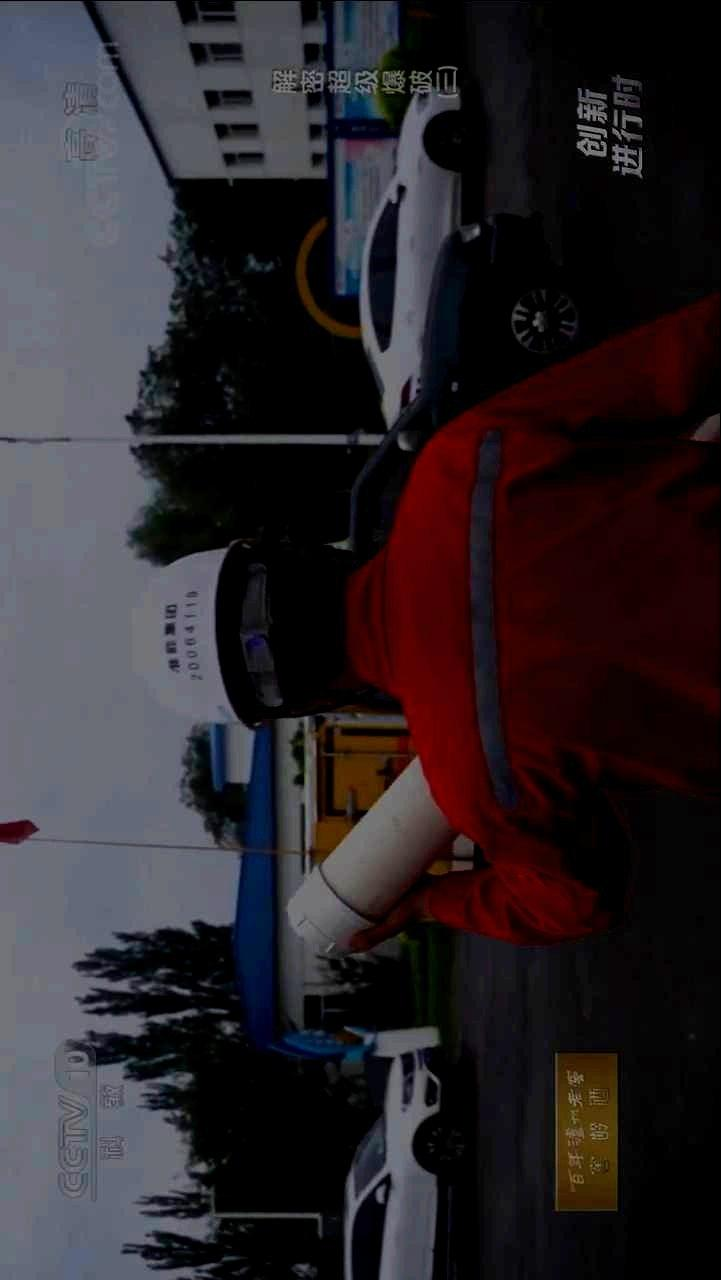helmet: (125, 535, 374, 732)
